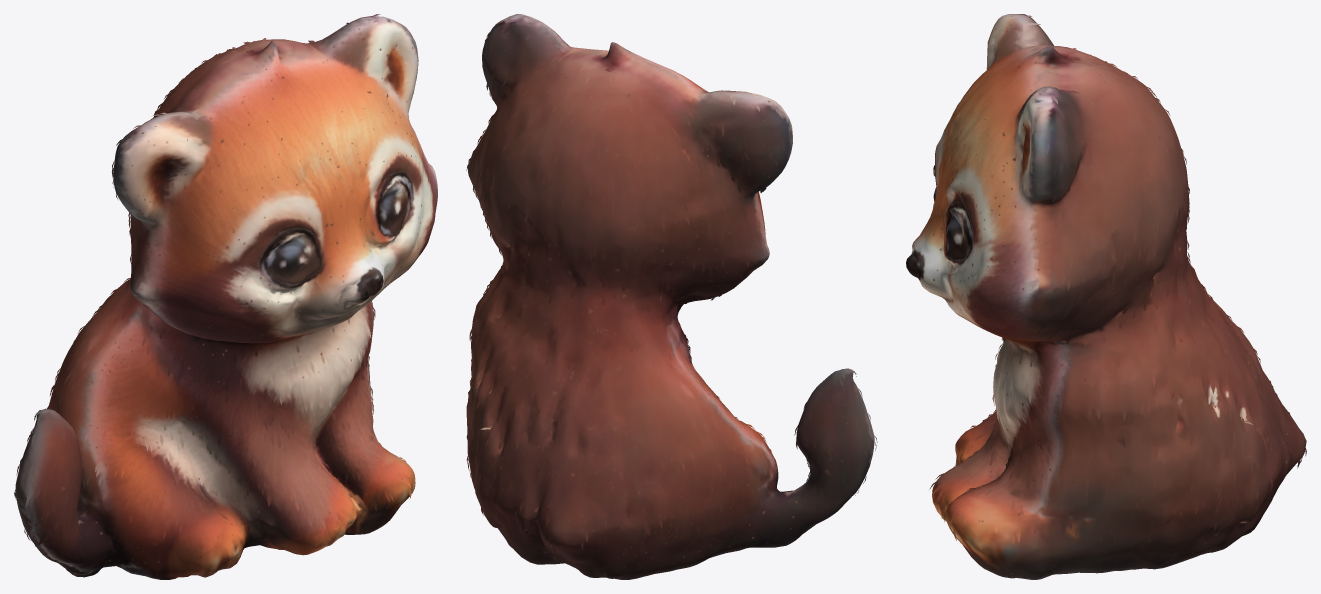
Rendered from red-panda-review.glb.
3 views of the same model, side by side, from view 1: azimuth 30°, elevation 25°; view 2: azimuth 150°, elevation 25°; view 3: azimuth 270°, elevation 25° (orthographic). The views are drawn at different scales.
Parts seen in each view (by area): view 1: JungleRedPanda_Body, JungleRedPanda_SculptedFur; view 2: JungleRedPanda_Body, JungleRedPanda_SculptedFur; view 3: JungleRedPanda_Body, JungleRedPanda_SculptedFur.
Part boxes in pixels (bbox=[...]): JungleRedPanda_Body: bbox=[15, 16, 437, 579]; JungleRedPanda_SculptedFur: bbox=[14, 14, 411, 546]; JungleRedPanda_Body: bbox=[466, 14, 874, 579]; JungleRedPanda_SculptedFur: bbox=[466, 19, 877, 553]; JungleRedPanda_Body: bbox=[906, 14, 1306, 579]; JungleRedPanda_SculptedFur: bbox=[929, 14, 1306, 543].
Bounding box in the file's own units: 2.52 × 2.8 × 2.04.
Materials: 2 (2 with a texture image).
